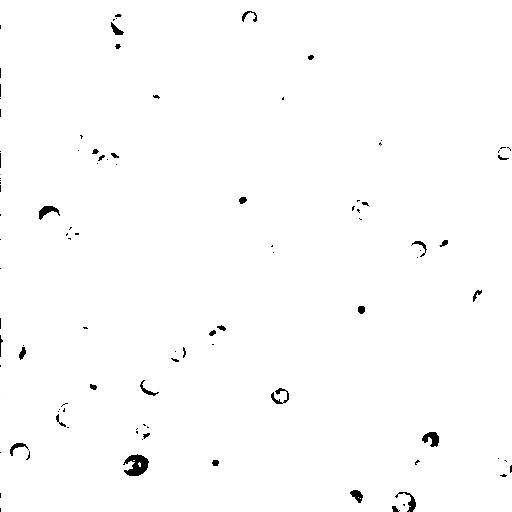micro-algae: (395, 34, 493, 131), (255, 82, 345, 170), (278, 1, 346, 61), (34, 253, 89, 309), (96, 379, 145, 432), (364, 121, 407, 171), (83, 1, 143, 25), (345, 193, 383, 229), (0, 21, 20, 86), (78, 132, 110, 172), (195, 323, 231, 357), (294, 35, 329, 69), (67, 318, 103, 350), (59, 122, 93, 153), (1, 78, 23, 124), (34, 203, 65, 235), (249, 363, 280, 394), (199, 447, 231, 477), (346, 295, 377, 324), (95, 151, 125, 180), (409, 447, 438, 477), (99, 32, 130, 60), (484, 450, 512, 481), (471, 285, 499, 313), (122, 452, 151, 479), (55, 402, 81, 429), (267, 229, 291, 257), (432, 230, 458, 255), (416, 429, 441, 454), (138, 374, 167, 395), (389, 490, 417, 511), (64, 221, 89, 244), (81, 373, 107, 395), (1, 331, 19, 362), (9, 342, 31, 367), (109, 13, 131, 37), (9, 441, 32, 463), (161, 477, 184, 499), (165, 341, 187, 362), (271, 386, 292, 407), (134, 420, 154, 442), (408, 239, 428, 259), (241, 9, 260, 30), (275, 89, 295, 108), (150, 501, 181, 512), (348, 488, 365, 507), (107, 0, 140, 9), (495, 144, 512, 161), (437, 65, 452, 83), (234, 193, 251, 207)
